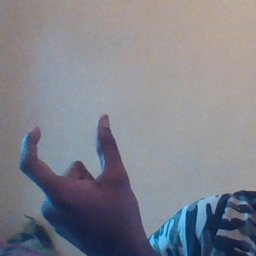U: (19, 112, 140, 243)
